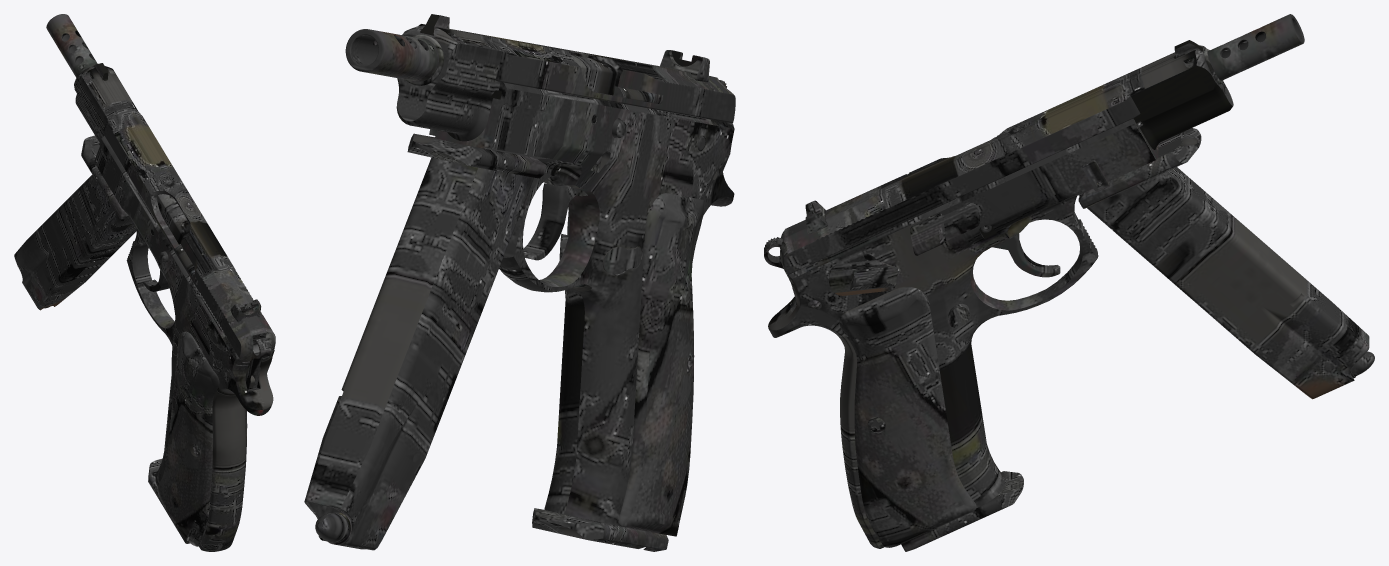
3 renders of one model, left to right at view 1: azimuth 30°, elevation 25°; view 2: azimuth 150°, elevation 25°; view 3: azimuth 270°, elevation 25°, orthographic. The views are drawn at different scales.
Visible parts, largest first — view 1: p_cz75; view 2: p_cz75; view 3: p_cz75.
Boxes of the visible parts, left/top/right/bottom form: p_cz75: left=14, top=14, right=275, bottom=551; p_cz75: left=304, top=14, right=735, bottom=551; p_cz75: left=764, top=14, right=1374, bottom=551.
Bounding box in the file's own units: 0.0588 × 0.3801 × 0.3987.
Materials: 1 (1 with a texture image).
